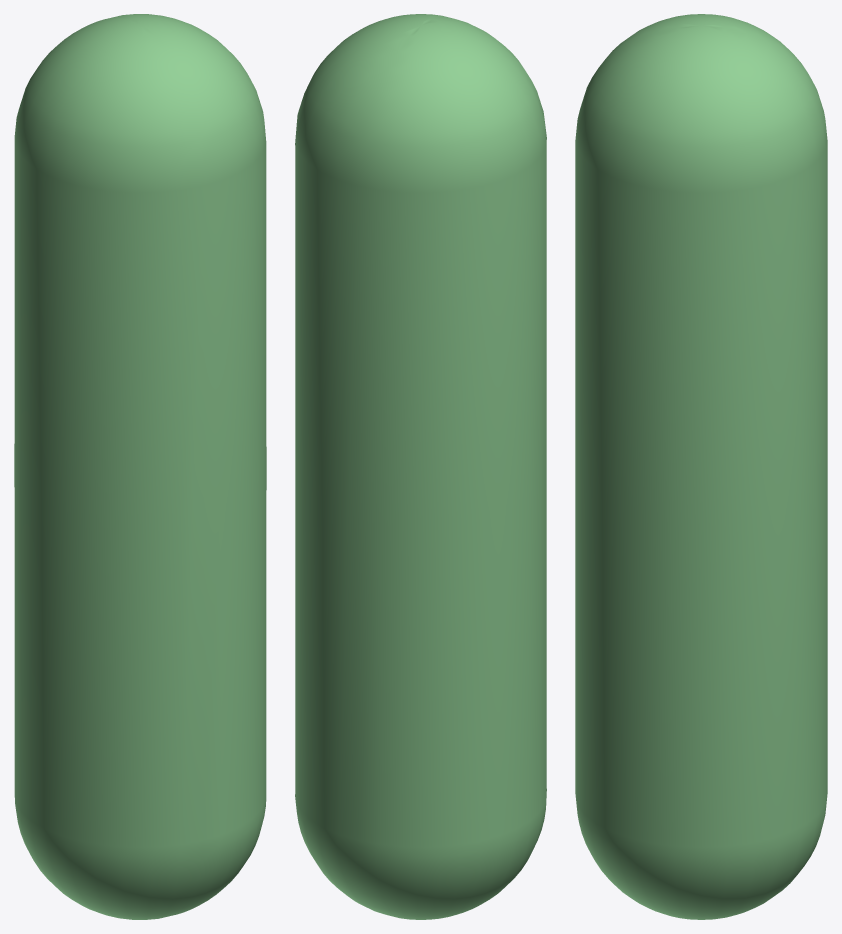
File: tankSet3Tank_stainlessSteel_1.dae
3 views of the same model, side by side, from view 1: azimuth 30°, elevation 25°; view 2: azimuth 150°, elevation 25°; view 3: azimuth 270°, elevation 25° (orthographic).
Parts seen in each view (by area): view 1: tankSet3Tank_stainlessSteel_1; view 2: tankSet3Tank_stainlessSteel_1; view 3: tankSet3Tank_stainlessSteel_1.
Boxes of the visible parts, left/top/right/bottom form: tankSet3Tank_stainlessSteel_1: left=14, top=14, right=266, bottom=919; tankSet3Tank_stainlessSteel_1: left=295, top=14, right=546, bottom=919; tankSet3Tank_stainlessSteel_1: left=575, top=14, right=827, bottom=919.
Size of the model in its own units: 0.88 by 0.88 by 3.4.
